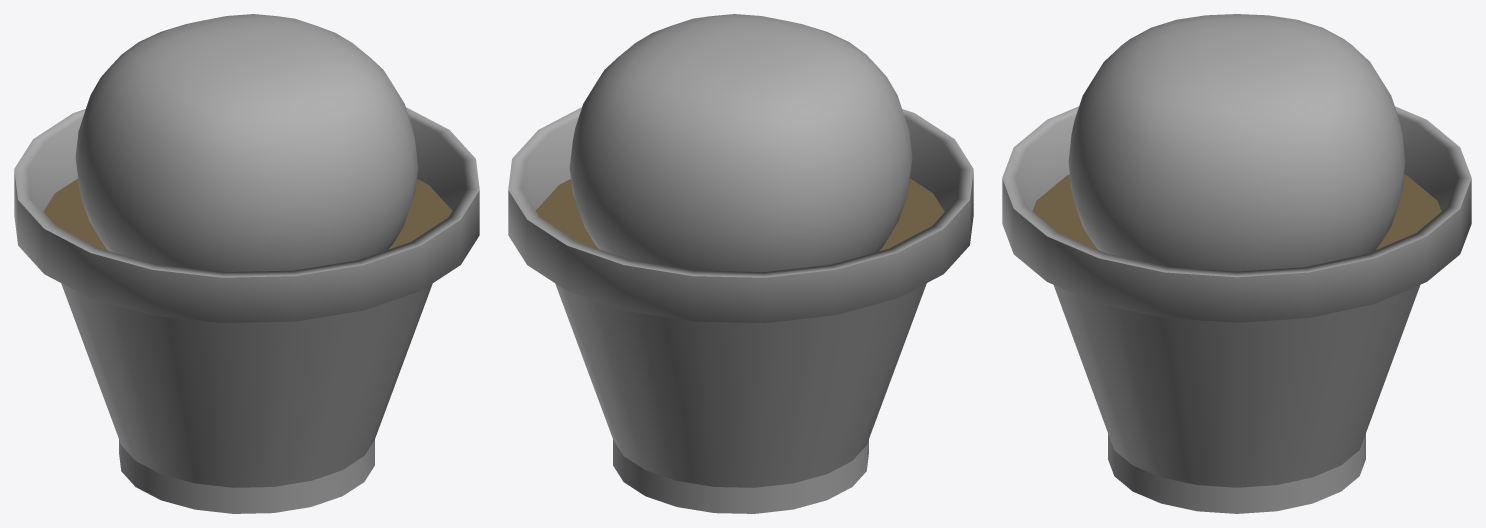
Rendered from Cactus.fbx.
3 renders of one model, left to right at view 1: azimuth 30°, elevation 25°; view 2: azimuth 150°, elevation 25°; view 3: azimuth 270°, elevation 25°, orthographic.
Parts seen in each view (by area): view 1: Pot_MESH, Cactus_MEsh; view 2: Pot_MESH, Cactus_MEsh; view 3: Pot_MESH, Cactus_MEsh.
Part boxes in pixels (bbox=[...]): Pot_MESH: bbox=[14, 107, 479, 513]; Cactus_MEsh: bbox=[75, 14, 418, 271]; Pot_MESH: bbox=[508, 107, 973, 513]; Cactus_MEsh: bbox=[569, 14, 912, 271]; Pot_MESH: bbox=[1002, 106, 1471, 513]; Cactus_MEsh: bbox=[1068, 14, 1405, 271].
Bounding box in the file's own units: 47.73 × 46.61 × 47.73.
